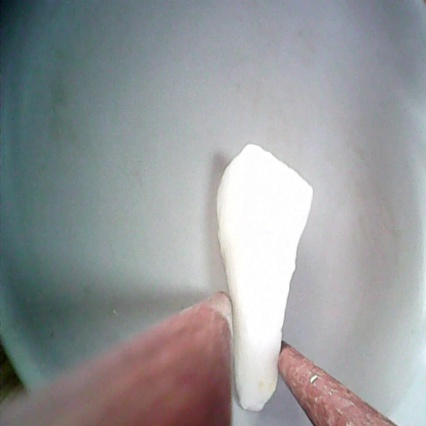white_chinese-yam: (213, 141, 318, 420)
